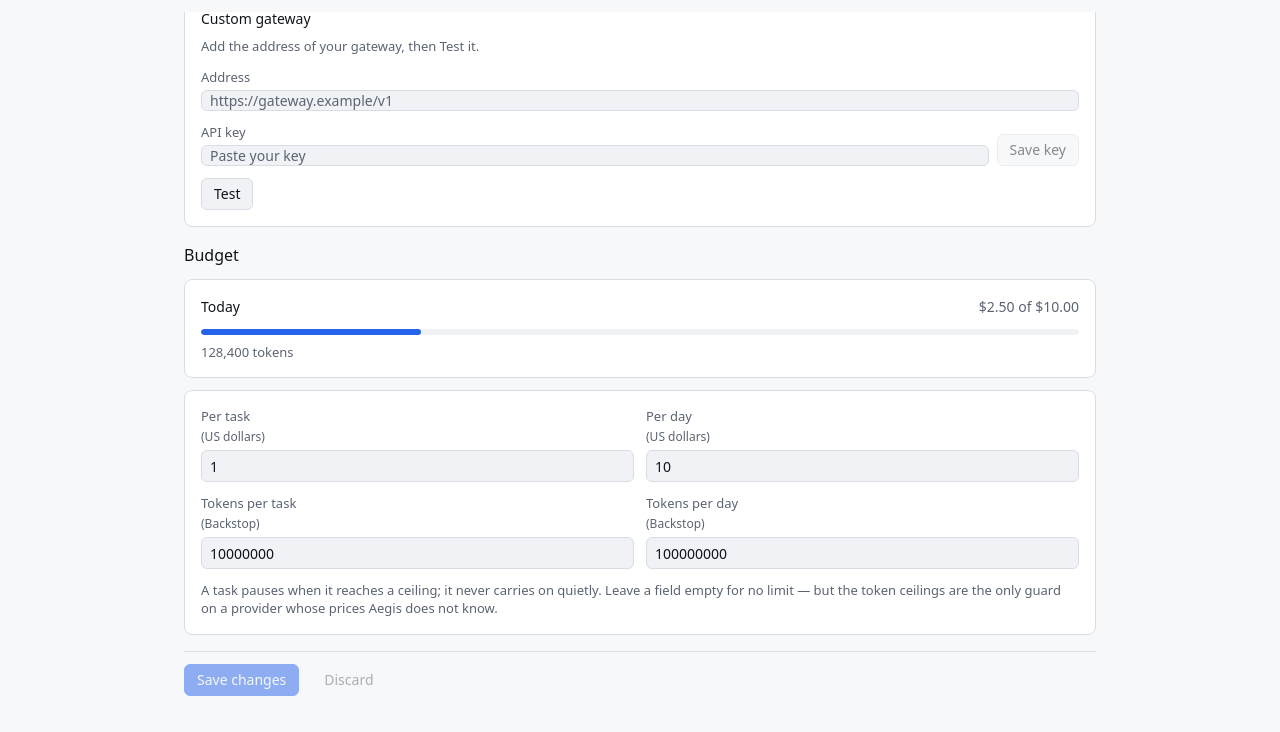
Scenario: the Save button › wakes up on an edit and says there are unsaved changes
(page scrolled)
Step 1. Replace the text in the number field labelled "Per day (US dollars)" with "2.5" → (862, 466), box [646,450,1079,482]
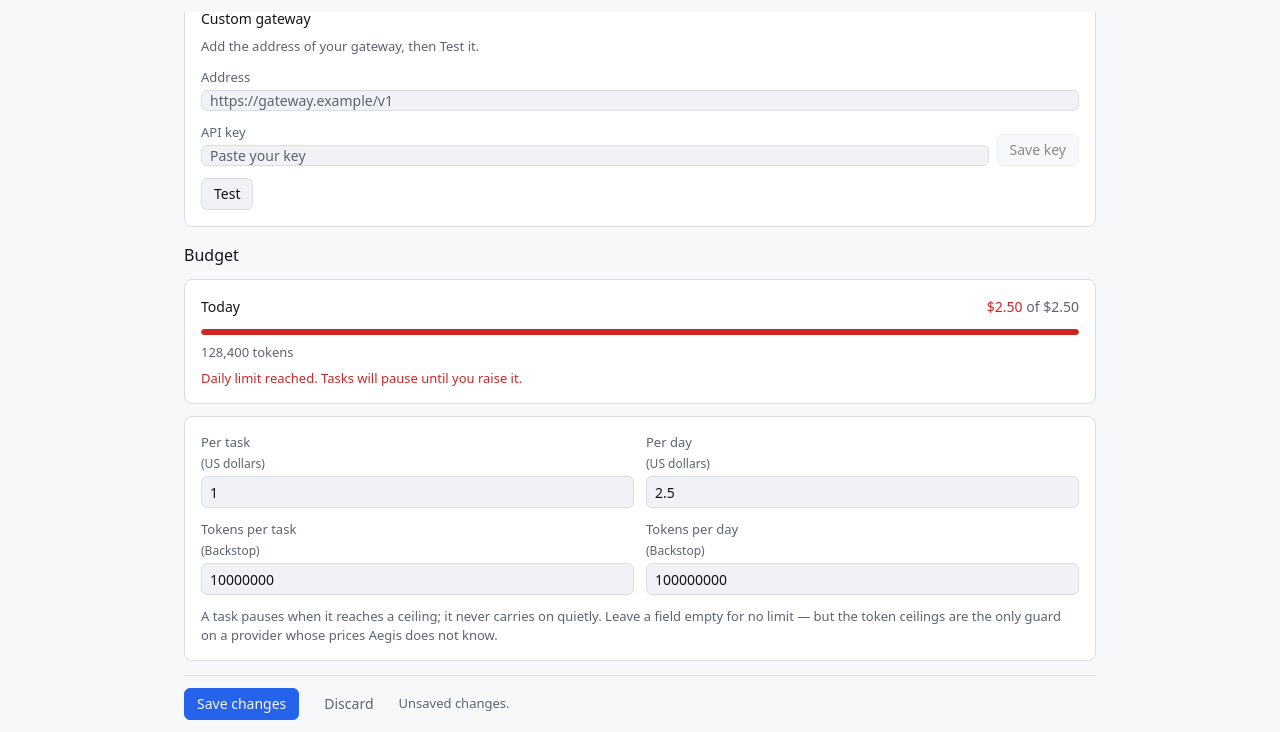
Check: the button "Save changes" is enabled, box [184,688,299,720]
Check: the text "Unsaved changes." is shown, box [398,694,510,712]
